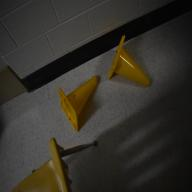cone: (108, 34, 150, 88), (58, 75, 98, 131)
